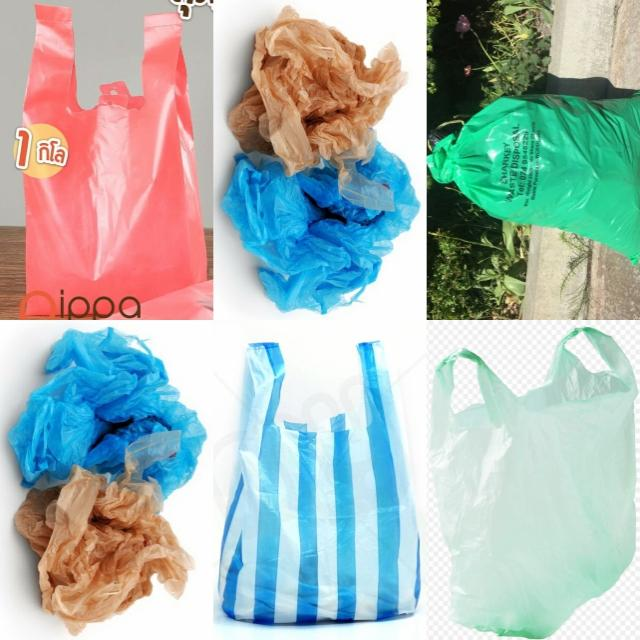Single-layer Plastic: (430, 327, 636, 638), (11, 5, 212, 319), (219, 342, 419, 624), (229, 6, 408, 210), (428, 92, 639, 264), (221, 143, 420, 313), (9, 327, 206, 496), (15, 465, 194, 634)
